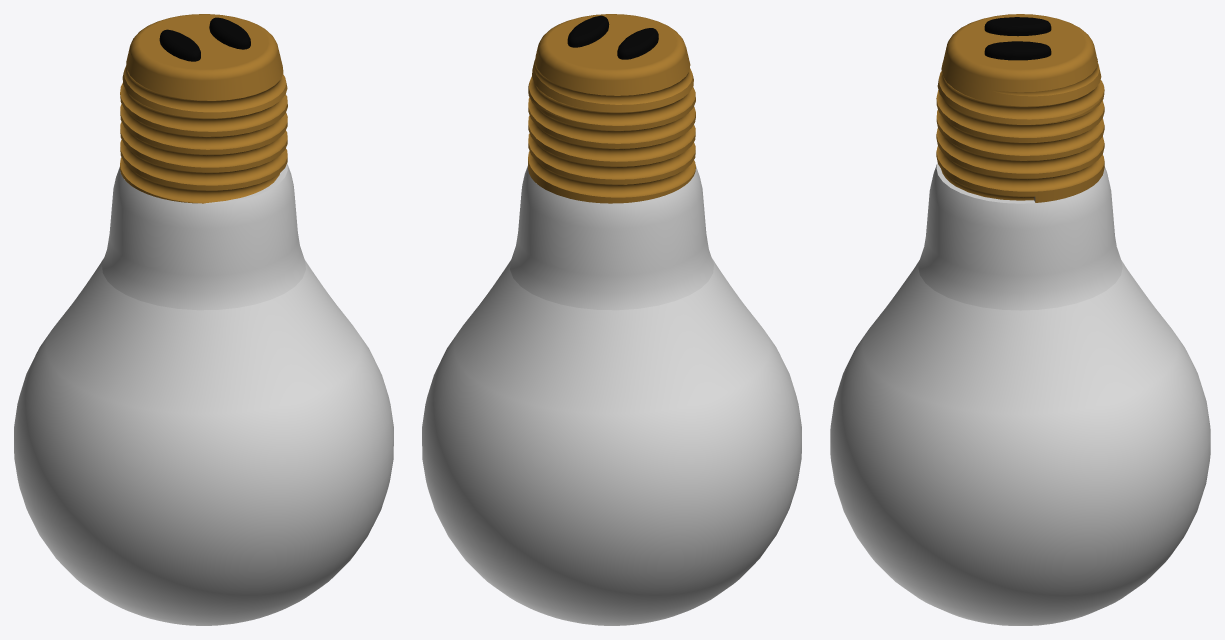
The model's file is lightBulb.fbx.
3 views of the same model, side by side, from view 1: azimuth 30°, elevation 25°; view 2: azimuth 150°, elevation 25°; view 3: azimuth 270°, elevation 25° (orthographic).
Parts seen in each view (by area): view 1: FACE_TRM_SRF (×17); view 2: FACE_TRM_SRF (×18); view 3: FACE_TRM_SRF (×18).
Part boxes in pixels (x1=…): FACE_TRM_SRF (×17): x1=14, y1=14, x2=393, y2=625; FACE_TRM_SRF (×18): x1=422, y1=14, x2=801, y2=625; FACE_TRM_SRF (×18): x1=830, y1=14, x2=1210, y2=625.
Bounding box in the file's own units: 97.78 × 97.78 × 162.
